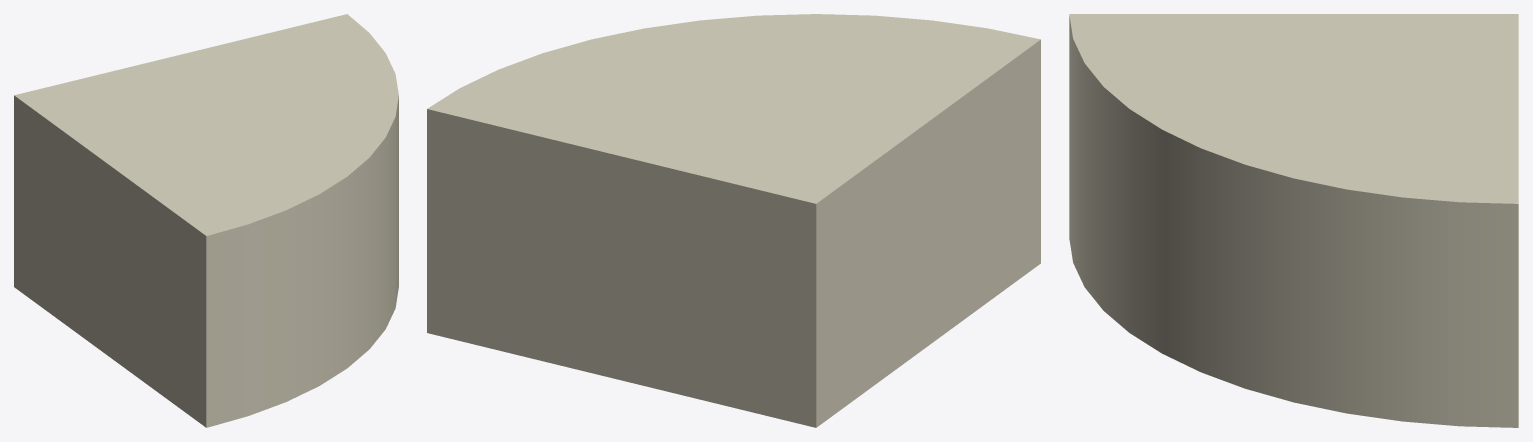
Rendered from roadTile_009.obj.
3 renders of one model, left to right at view 1: azimuth 30°, elevation 25°; view 2: azimuth 150°, elevation 25°; view 3: azimuth 270°, elevation 25°, orthographic. The views are drawn at different scales.
Visible parts, largest first — view 1: roadTile_009; view 2: roadTile_009; view 3: roadTile_009.
Boxes of the visible parts, x1=… form: roadTile_009: x1=14, y1=14, x2=398, y2=427; roadTile_009: x1=427, y1=14, x2=1040, y2=427; roadTile_009: x1=1069, y1=14, x2=1518, y2=427.
Size of the model in its own units: 3 by 1.65 by 3.
